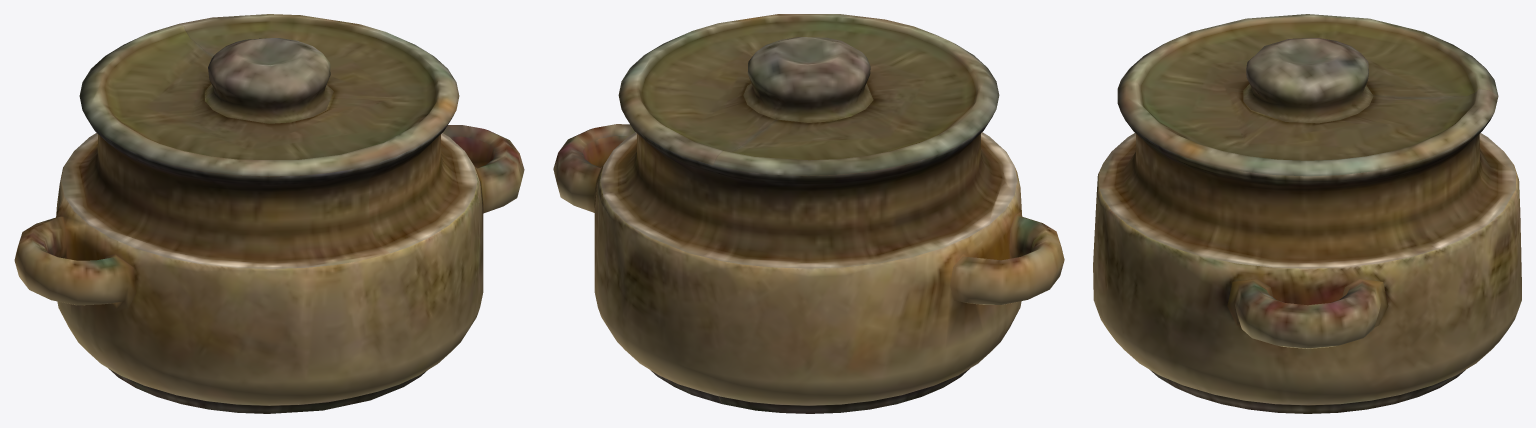
Rendered from ph-ceramic-pot.lod1.glb.
3 views of the same model, side by side, from view 1: azimuth 30°, elevation 25°; view 2: azimuth 150°, elevation 25°; view 3: azimuth 270°, elevation 25° (orthographic).
Parts seen in each view (by area): view 1: ceramic_pot; view 2: ceramic_pot; view 3: ceramic_pot.
Boxes of the visible parts, x1=… form: ceramic_pot: x1=14, y1=14, x2=524, y2=413; ceramic_pot: x1=553, y1=14, x2=1064, y2=413; ceramic_pot: x1=1093, y1=14, x2=1521, y2=413.
Size of the model in its own units: 0.6533 by 0.37 by 0.4975.
Materials: 1 (1 with a texture image).
